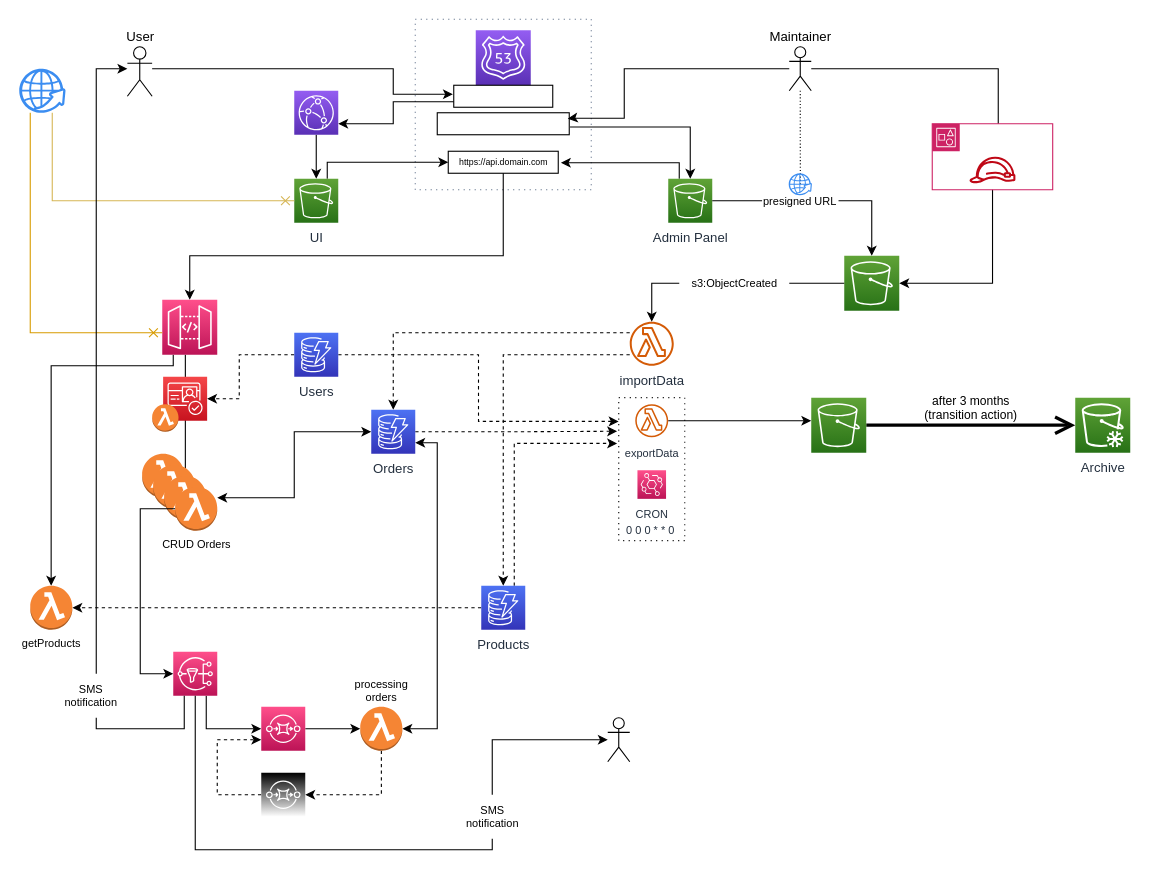
The diagram is 1150 pixels wide and 870 high, and some of its shapes have lost their labels. The box of each missing label's shape, as (x1, y1, x2, y2) in pixels:
AWS Account: (931, 123, 1053, 190)
Bucket to upload CSV: (843, 255, 899, 311)
DLQ: (260, 772, 305, 817)
DynamoDb snapshot: (810, 397, 866, 453)
https://admin.domain.com: (436, 112, 569, 135)
https://domain.com: (453, 84, 553, 107)
lambda Auth: (162, 376, 207, 421)
Worker: (607, 717, 630, 762)
